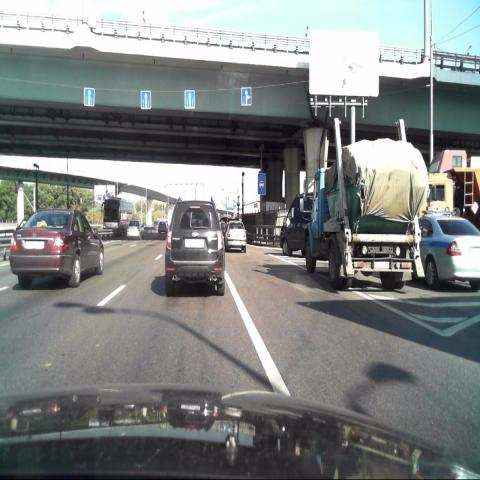5_3: (257, 172, 266, 197)
